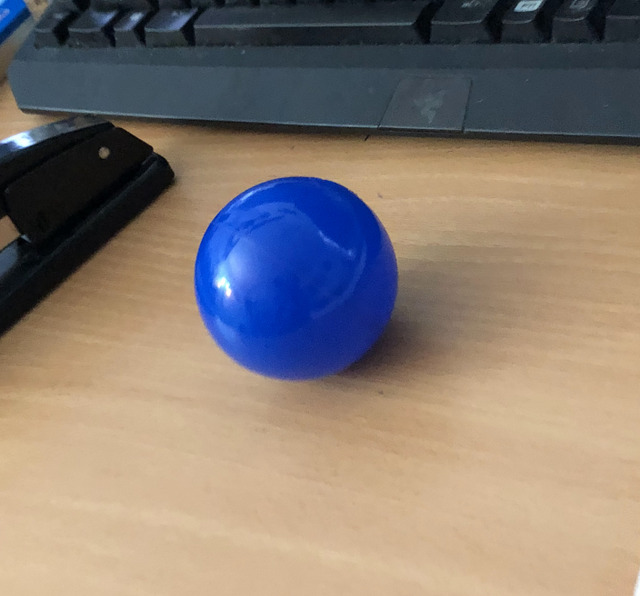Ball: (200, 177, 400, 378)
